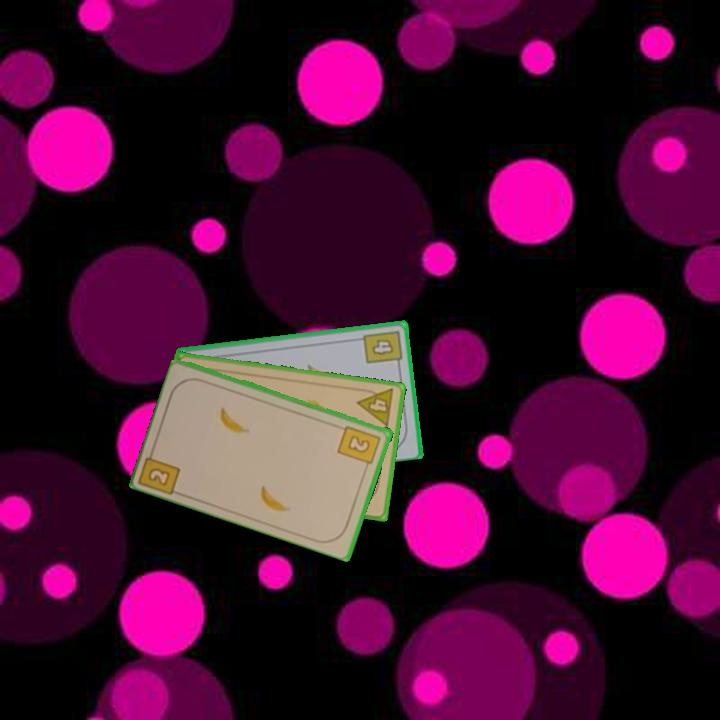2b: (137, 443, 184, 497), (335, 422, 384, 472)
4b: (360, 327, 405, 369)
4p: (354, 384, 396, 430)
